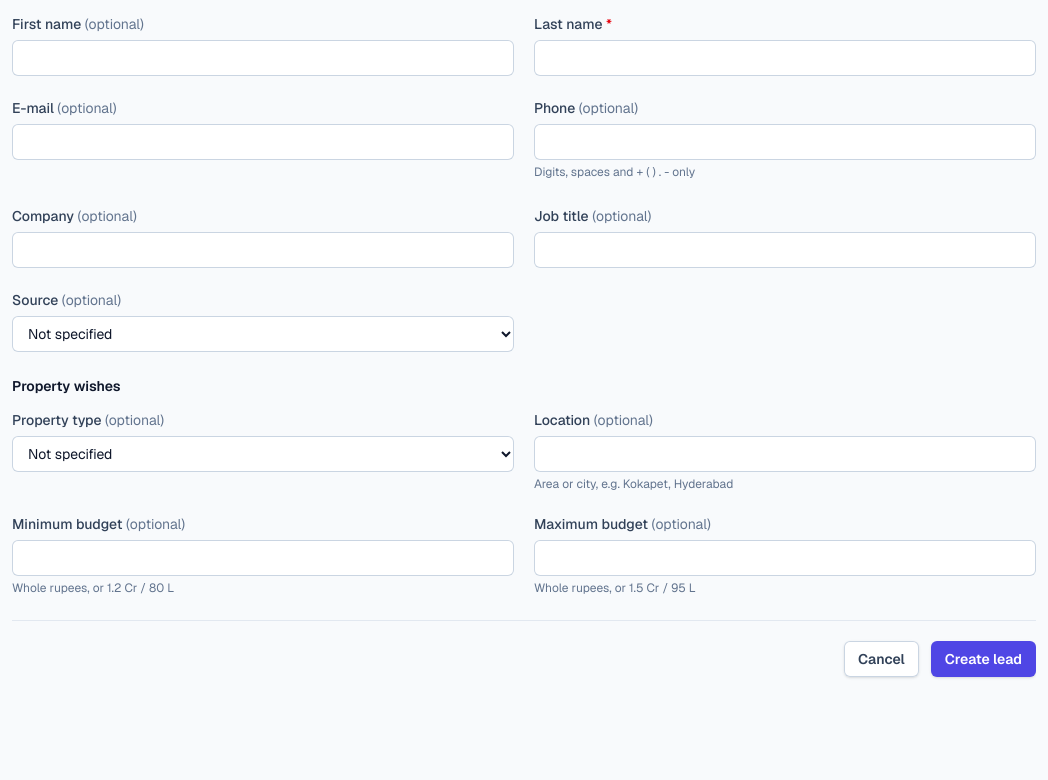
Test case: LeadForm › shows errors and does not submit when required data is missing
Type "not-an-email" into the field labelled "E-mail (optional)".
click(263, 142); type("not-an-email")  # box [12,124,514,160]
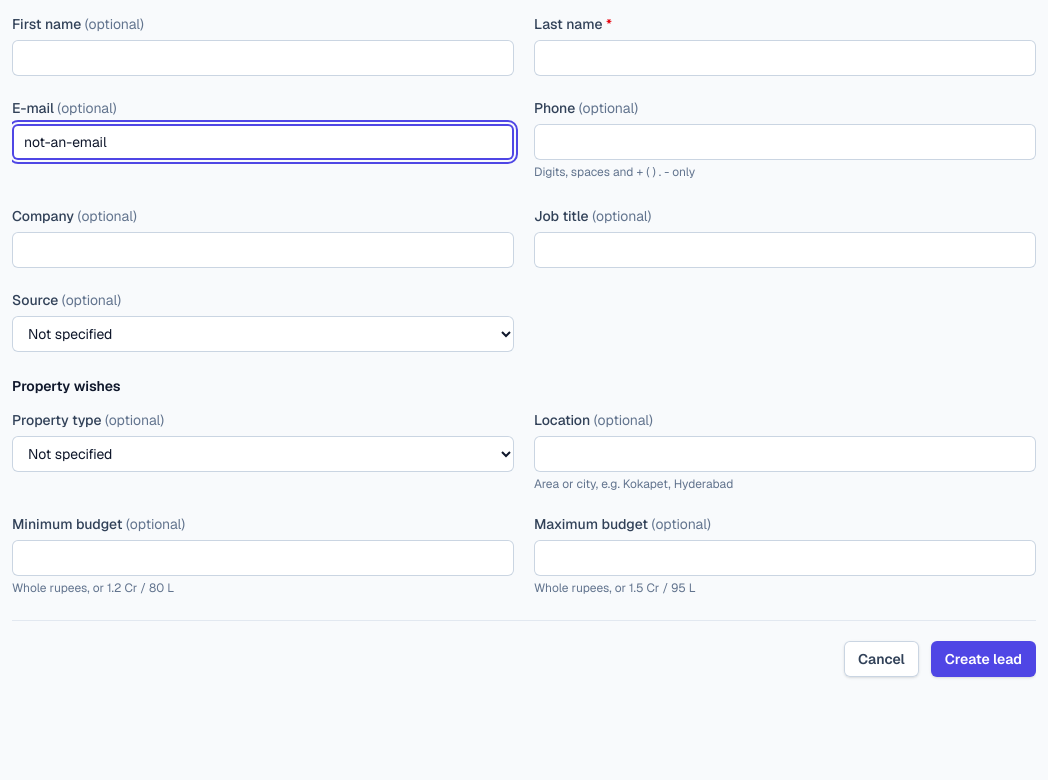
Click the button "Create lead".
click(983, 659)  # box [931,641,1036,677]
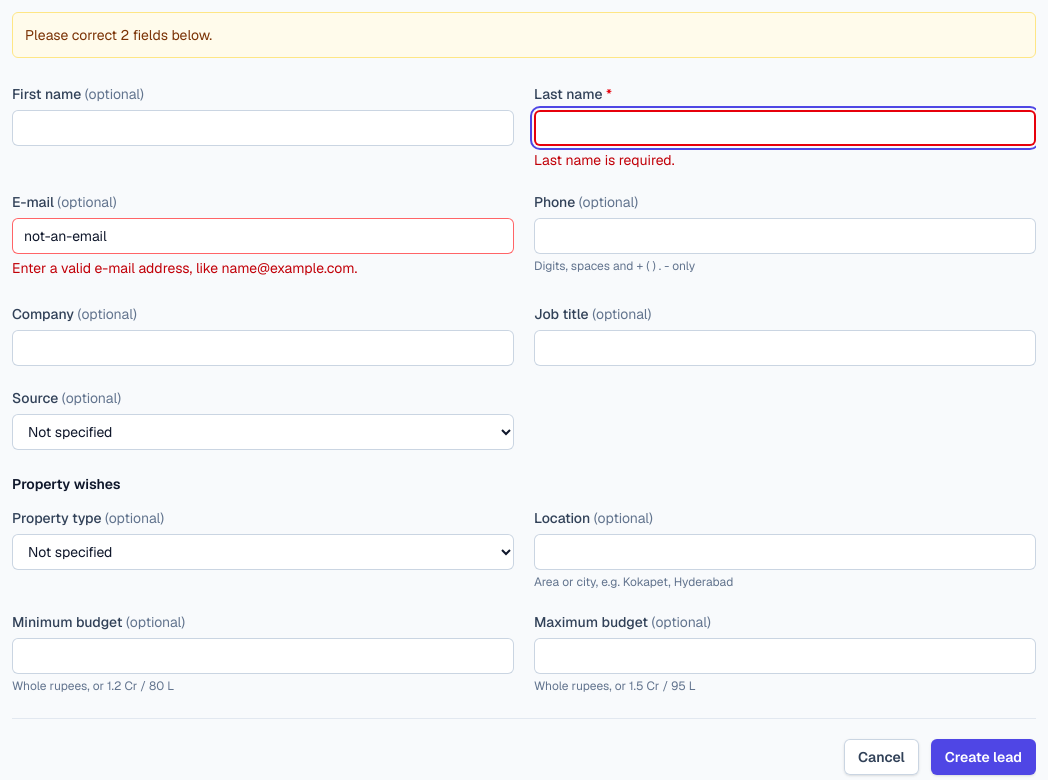
Check: the text "Please correct 2 fields below." is shown, box [12,12,1036,58]
